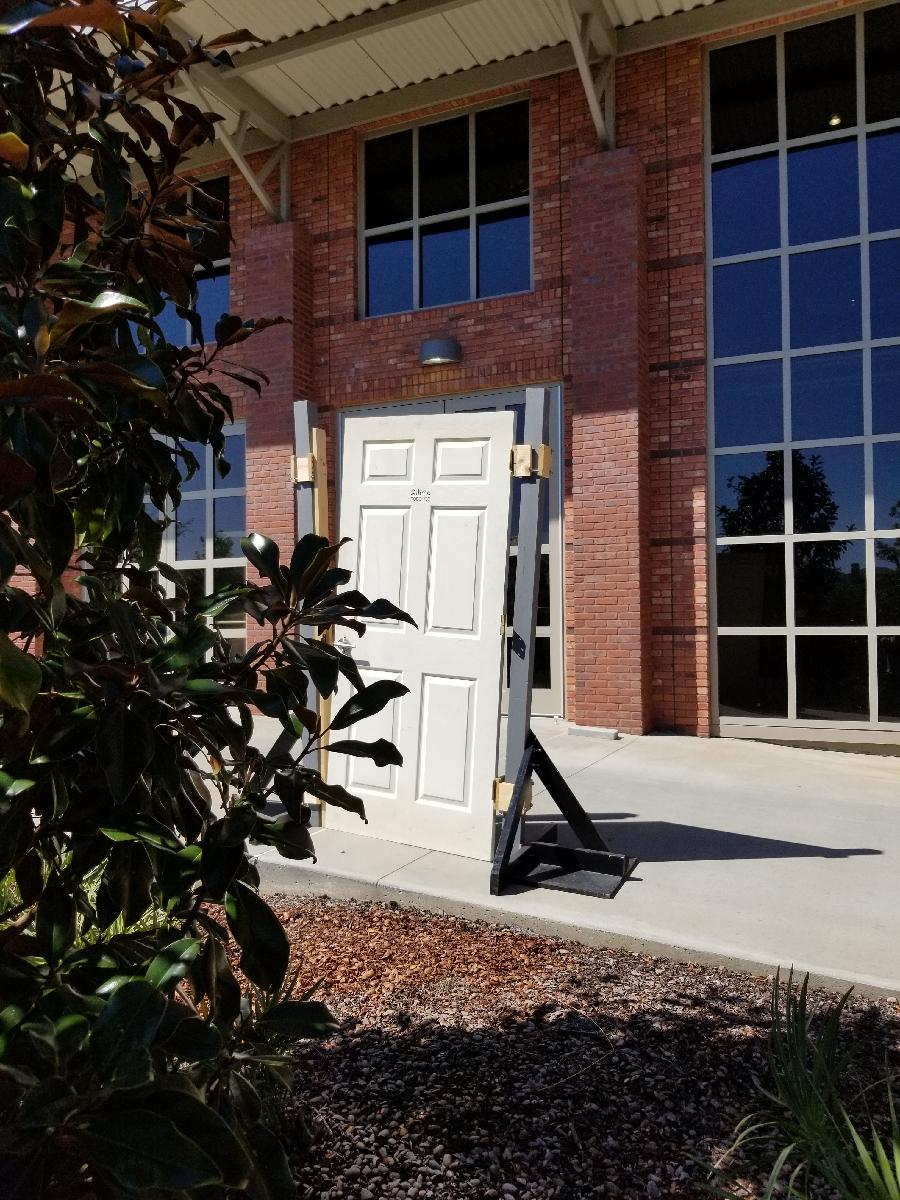door: (319, 408, 519, 867)
doorHandle: (337, 631, 360, 658)
